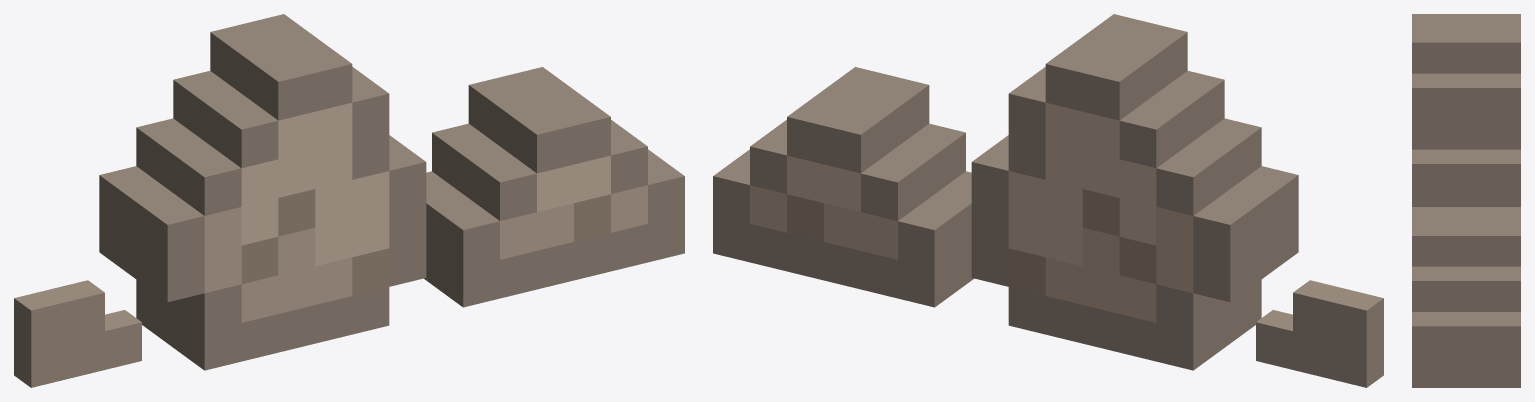
File: Rubbish1.fbx
The picture shows the model from 3 angles, left to right: view 1: azimuth 30°, elevation 25°; view 2: azimuth 150°, elevation 25°; view 3: azimuth 270°, elevation 25°; orthographic projection. The views are drawn at different scales.
Parts seen in each view (by area): view 1: generated; view 2: generated; view 3: generated.
Boxes of the visible parts, x1,y1,x2,y2 form: generated: (14,14,684,387); generated: (713,14,1383,387); generated: (1412,14,1520,387).
Bounding box in the file's own units: 8.5 × 3.5 × 1.6.
